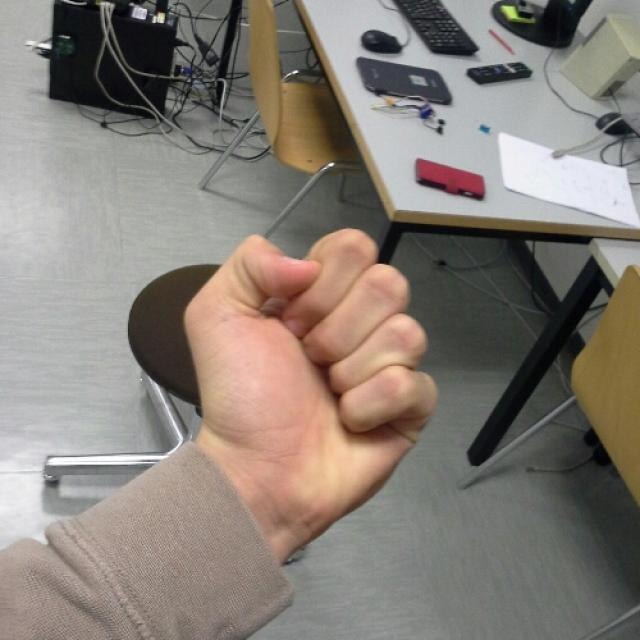rock: (181, 232, 440, 509)
